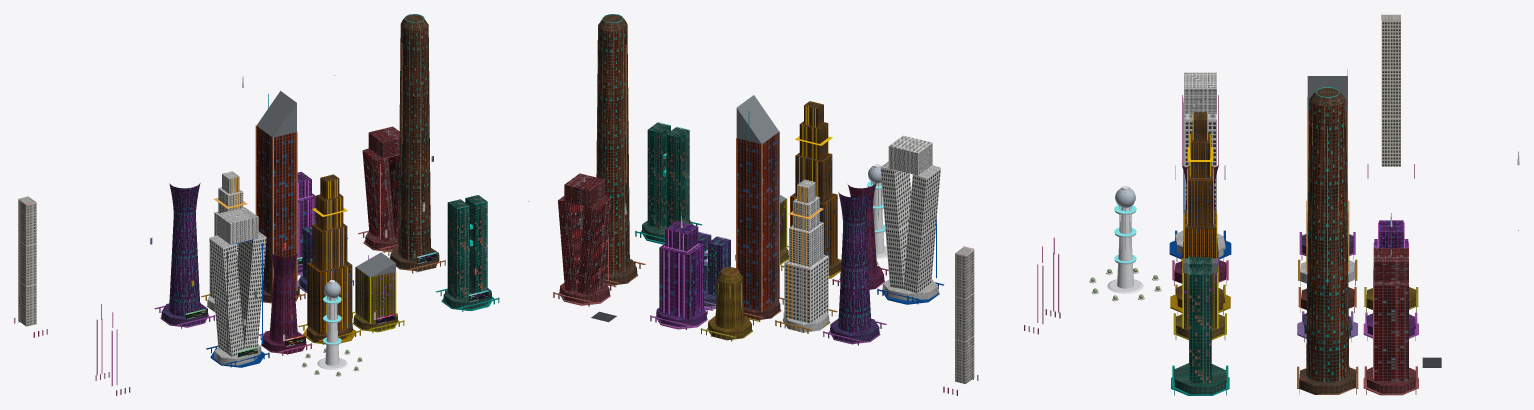
File: tile_1000_0.glb
The picture shows the model from 3 angles, left to right: view 1: azimuth 30°, elevation 25°; view 2: azimuth 150°, elevation 25°; view 3: azimuth 270°, elevation 25°; orthographic projection. The views are drawn at different scales.
Parts seen in each view (by area): view 1: tile; view 2: tile; view 3: tile.
Part boxes in pixels (box(x1,y1,x2,y2)): tile: box(14, 14, 499, 395); tile: box(528, 14, 1060, 395); tile: box(1089, 14, 1519, 395).
Size of the model in its own units: 472 by 283 by 379.
Materials: 74 (27 with a texture image).
